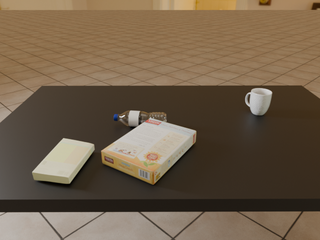book: (32, 139, 94, 183)
bottle: (114, 111, 167, 127)
box: (101, 118, 196, 185)
cup: (245, 88, 272, 115)
